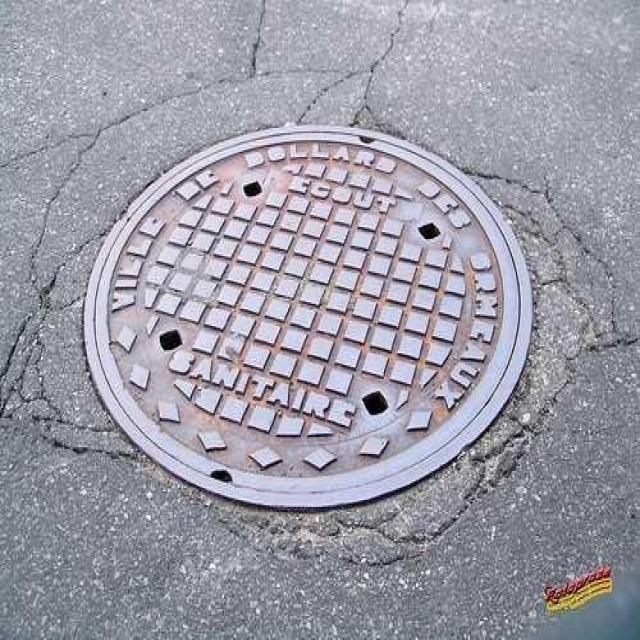manhole: (85, 127, 533, 507)
